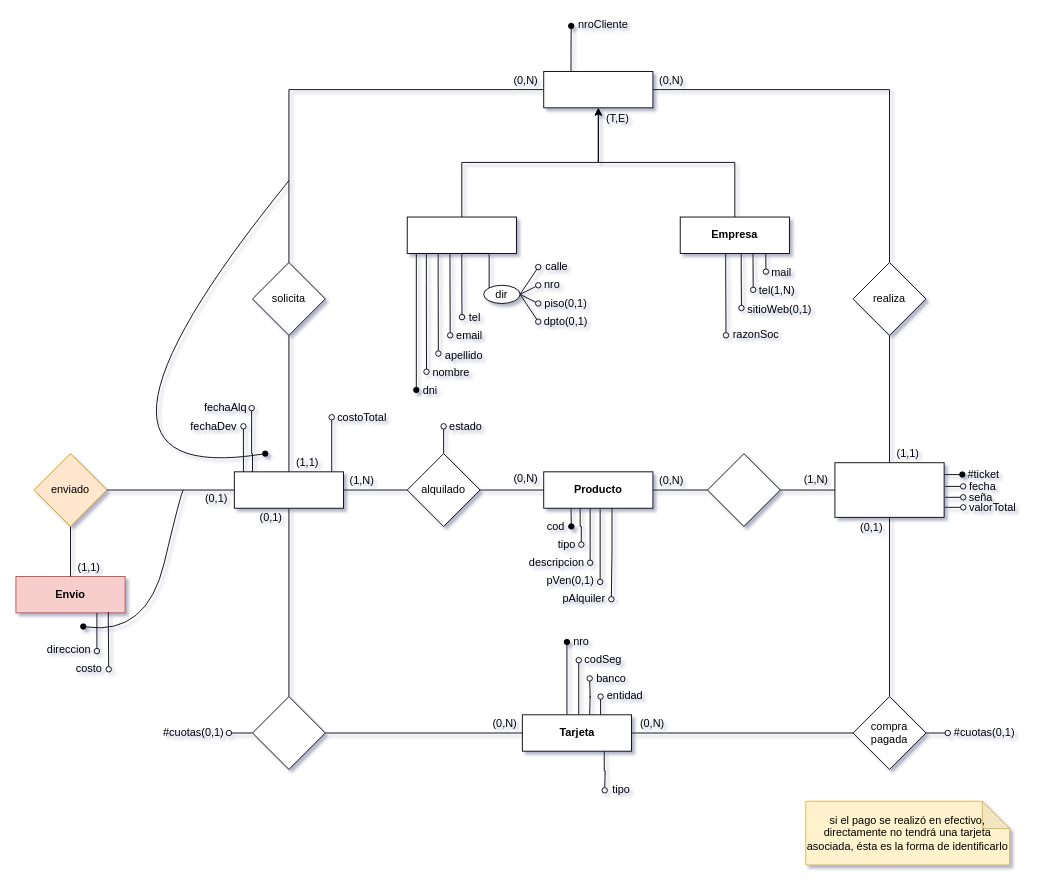
This 1046x886 diagram has some shape labels left out. The shapes that lost their labels are listed below. From the top down, each one's centre as x and y in pixels, then its label:
At pixel 598 89: "Cliente".
At pixel 461 234: "Persona".
At pixel 288 489: "Alquiler".
At pixel 743 489: "comprado".
At pixel 889 489: "Compra".
At pixel 288 732: "alquiler pagado".
